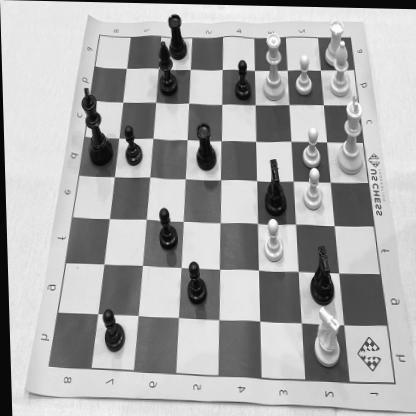black-bishop: (156, 36, 178, 98)
black-king: (78, 84, 114, 167)
black-knight: (304, 240, 336, 306), (258, 154, 288, 217)
black-pawn: (182, 256, 209, 308), (98, 307, 126, 357), (119, 121, 144, 170), (154, 204, 178, 252), (231, 56, 253, 102)
black-rook: (193, 120, 218, 174), (166, 8, 188, 62)
white-bishop: (325, 32, 354, 99)
white-king: (330, 91, 367, 176)
white-knight: (306, 303, 343, 369)
white-pawn: (260, 215, 286, 264), (298, 164, 324, 212), (299, 123, 323, 171), (292, 51, 314, 97)
white-queen: (258, 26, 286, 104)
white-rook: (323, 16, 348, 68)
